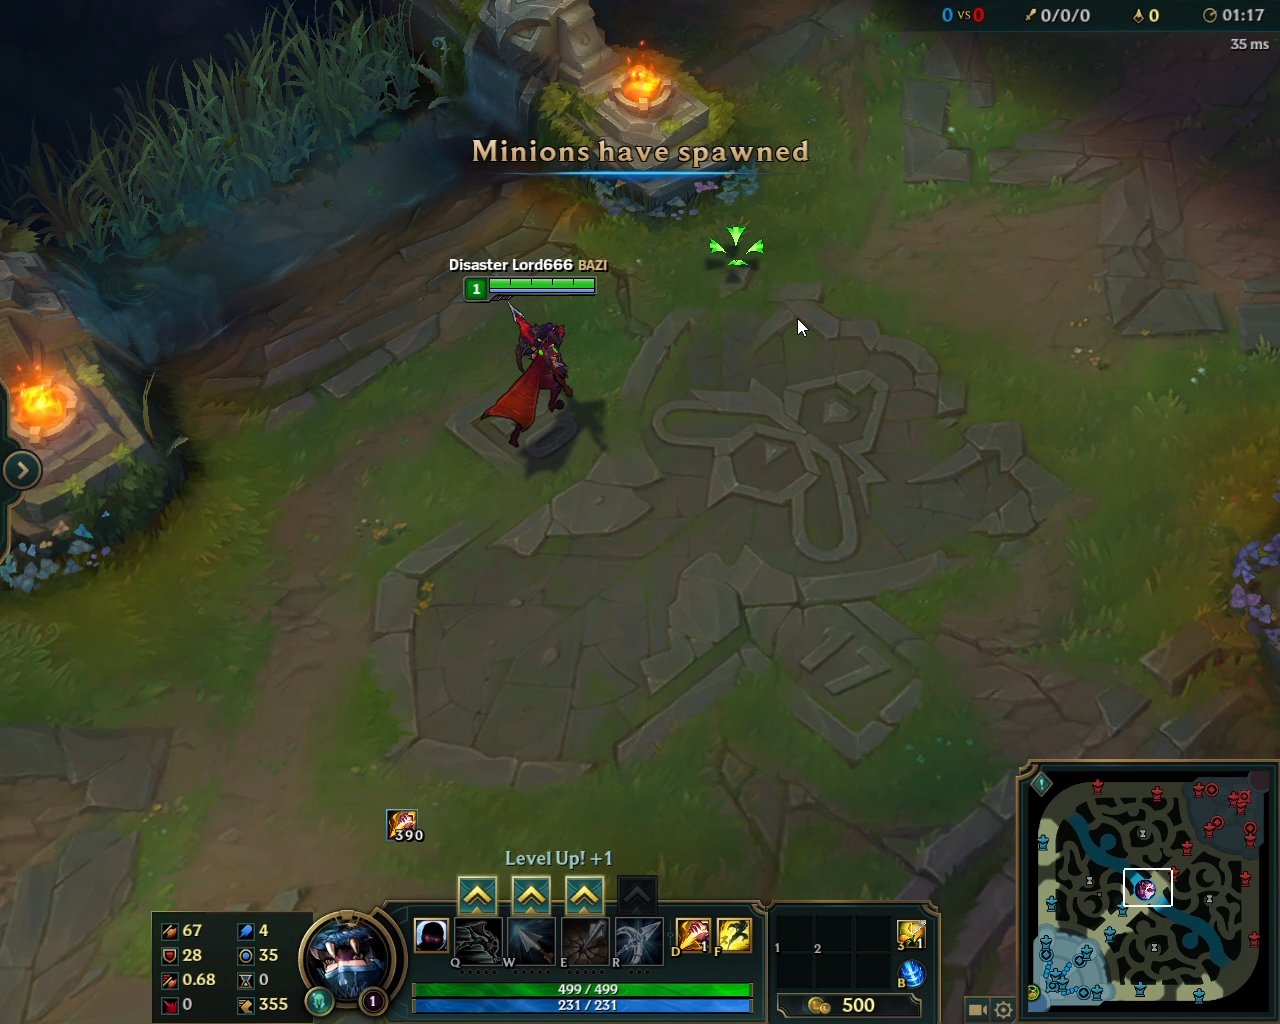Vayne: (472, 300, 589, 455)
